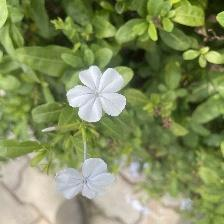chitrak: (68, 64, 127, 128), (54, 157, 117, 203)
